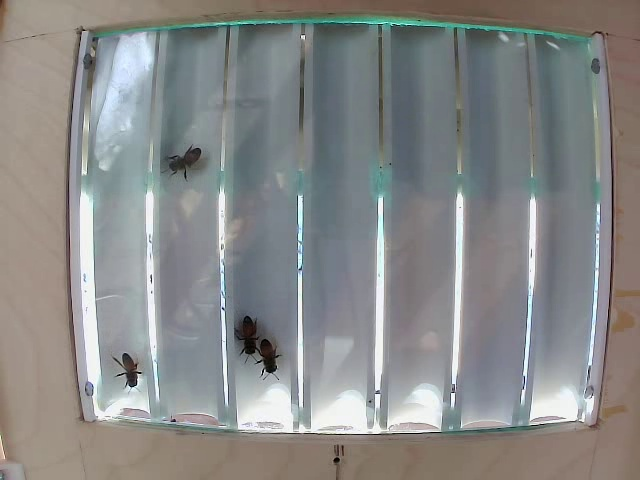bee: (164, 129, 210, 182), (106, 350, 143, 392), (256, 333, 279, 377), (231, 311, 254, 348)
